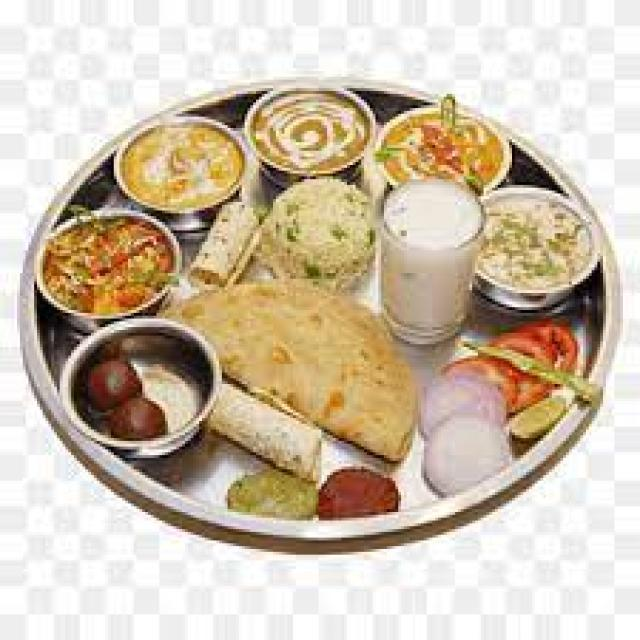curd: (384, 175, 487, 255)
dal: (114, 113, 247, 213)
papad: (181, 174, 410, 435), (234, 175, 384, 314)
raita: (378, 173, 489, 259)
rice: (481, 194, 592, 296)
sweet: (67, 335, 197, 452)
veg-fry: (34, 206, 182, 326), (381, 95, 511, 195)
